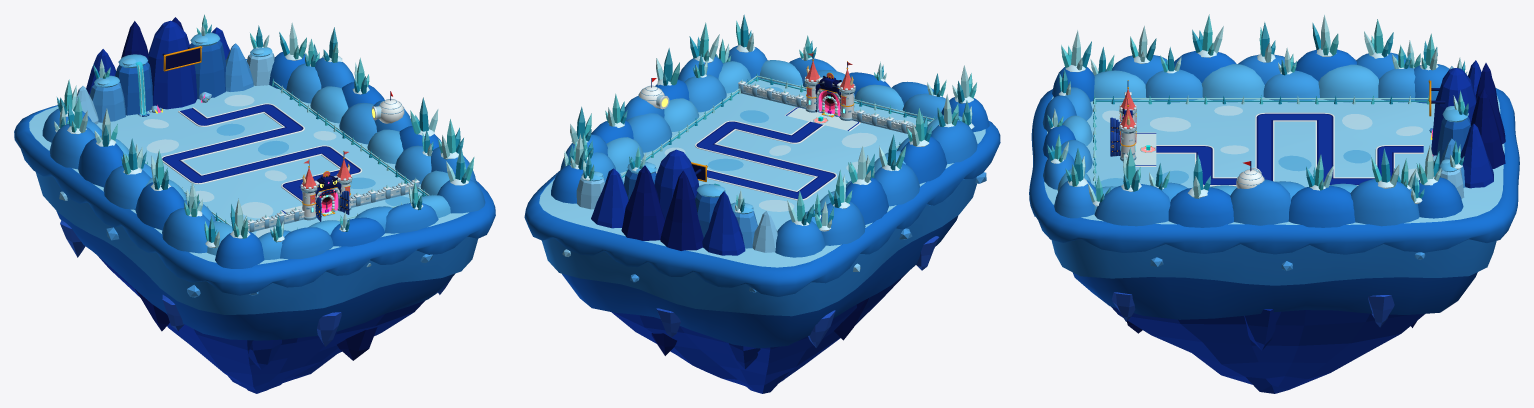
File: neptune_base.fbx
3 renders of one model, left to right at view 1: azimuth 30°, elevation 25°; view 2: azimuth 150°, elevation 25°; view 3: azimuth 270°, elevation 25°, orthographic. The views are drawn at different scales.
Visible parts, largest first — view 1: Base_Cliff, Base_Backdrop, Base_Ground, Base_Trees, Base_Road, Base_Gate, Base_Dressing, Base_GateTrim; view 2: Base_Cliff, Base_Backdrop, Base_Ground, Base_Trees, Base_Road, Base_Gate, Base_Dressing, Base_GateTrim; view 3: Base_Cliff, Base_Backdrop, Base_Ground, Base_Trees, Base_Road, Base_Dressing, Base_Gate, Base_GateTrim.
Boxes of the visible parts, x1,y1,x2,y2 form: Base_Cliff: (14,59,495,393); Base_Backdrop: (42,17,485,268); Base_Ground: (29,60,468,264); Base_Trees: (54,14,474,248); Base_Road: (161,103,362,213); Base_Gate: (247,151,419,232); Base_Dressing: (101,78,429,229); Base_GateTrim: (302,151,351,204); Base_Cliff: (524,121,1000,393); Base_Backdrop: (551,45,989,257); Base_Ground: (539,79,985,267); Base_Trees: (564,14,976,231); Base_Road: (656,107,860,200); Base_Gate: (738,52,915,133); Base_Dressing: (621,74,935,210); Base_GateTrim: (805,53,854,122); Base_Cliff: (1029,88,1519,393); Base_Backdrop: (1042,49,1505,227); Base_Ground: (1044,96,1504,224); Base_Trees: (1047,14,1468,206); Base_Road: (1134,112,1423,186); Base_Dressing: (1093,95,1429,188); Base_Gate: (1110,80,1156,161); Base_GateTrim: (1120,89,1154,152).
Size of the model in its own units: 188 by 179 by 244.
